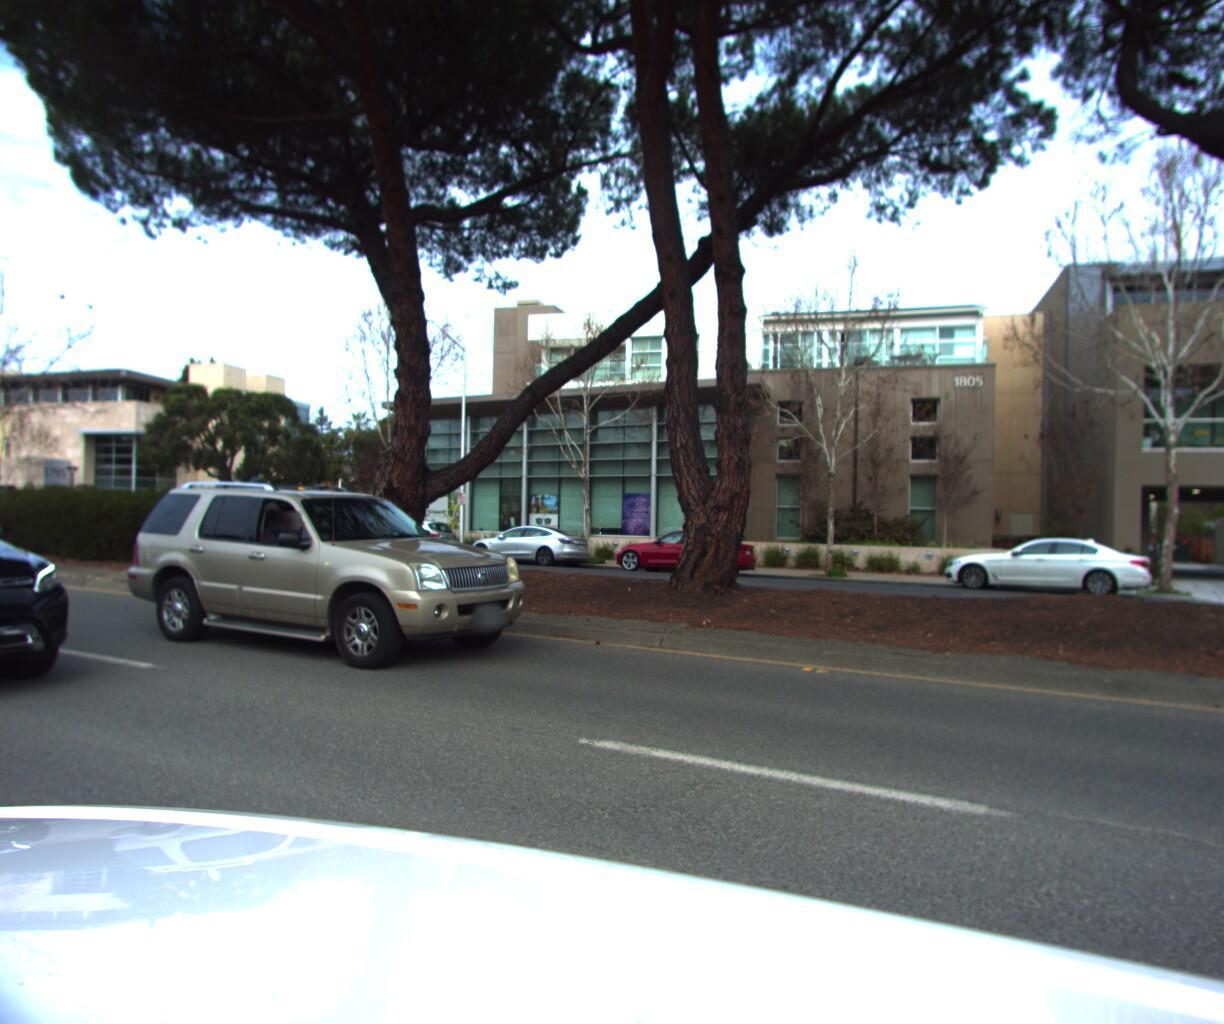car: (119, 479, 545, 686), (0, 449, 95, 739), (930, 531, 1152, 600), (604, 528, 763, 579), (461, 524, 597, 573), (342, 519, 463, 565)
